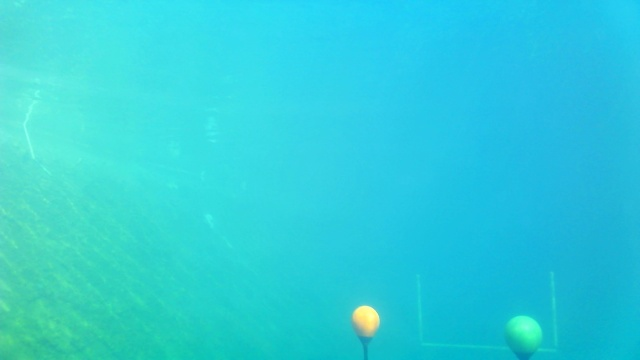buoy_red: (347, 303, 382, 343)
